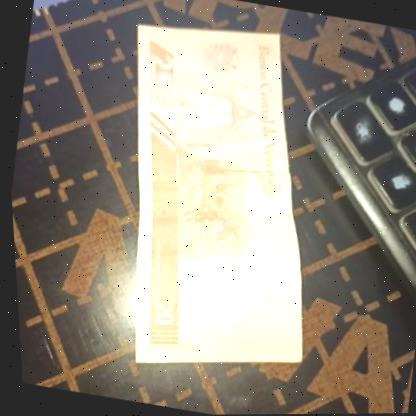twenty-back-vef: (76, 9, 356, 390)
